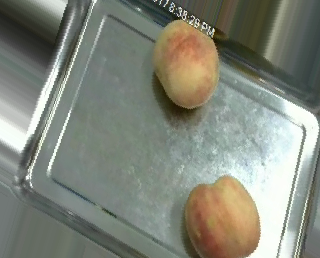Peach: (182, 175, 259, 257), (153, 19, 219, 108)
